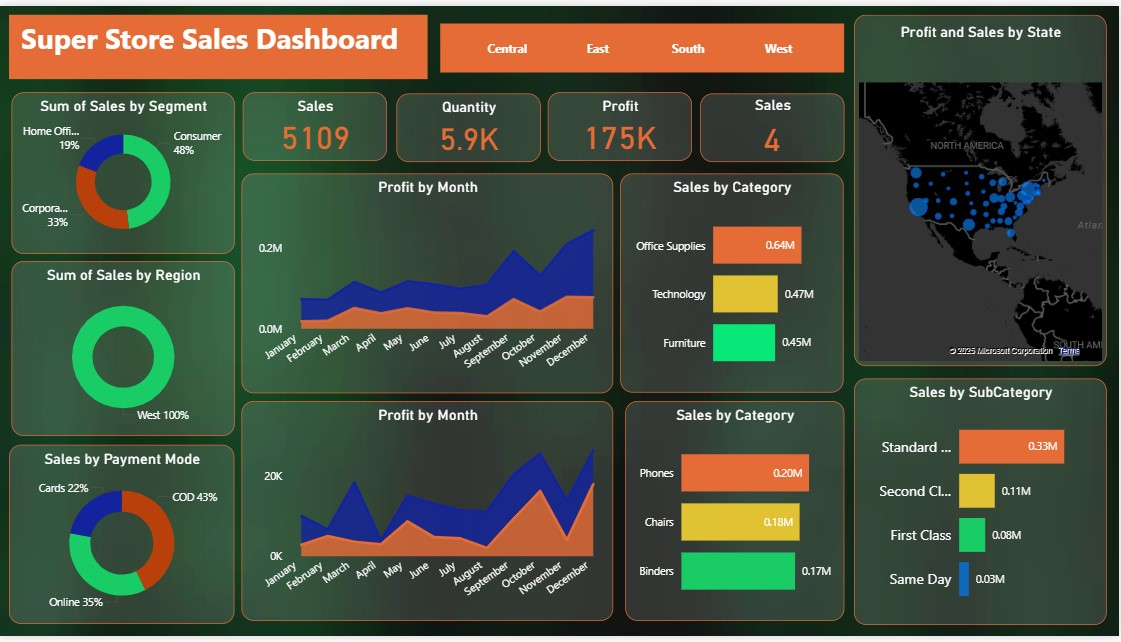

This screenshot's page, from the dashboard's own definition file:
{"tool":"powerbi","page":{"name":"Super Store Sales Dashboard","canvas":[1280,720],"ordinal":0},"visuals":[{"type":"clusteredBarChart","title":"Sales by Category","fields":{"Category":["SuperStore_Sales_Dataset (1).Category"],"Y":["Sum(SuperStore_Sales_Dataset (1).Sales)"]},"box":[710,191.2,255,250],"z":0},{"type":"clusteredBarChart","title":"Sales by SubCategory","fields":{"Category":["SuperStore_Sales_Dataset (1).Ship Mode"],"Y":["Sum(SuperStore_Sales_Dataset (1).Sales)"]},"box":[977.5,425,288.8,281.2],"z":2000},{"type":"stackedAreaChart","title":"Profit by Month","fields":{"Series":["SuperStore_Sales_Dataset (1).Order Date.Variation.Date Hierarchy.Year"],"Category":["SuperStore_Sales_Dataset (1).Order Date.Variation.Date Hierarchy.Month"],"Y":["Sum(SuperStore_Sales_Dataset (1).Profit)"]},"box":[277.5,451.2,425,251.2],"z":3000},{"type":"map","title":"Profit and Sales by State","fields":{"Category":["SuperStore_Sales_Dataset (1).State"],"Size":["Sum(SuperStore_Sales_Dataset (1).Sales)"]},"box":[977,10,288.8,401.2],"z":5000},{"type":"clusteredBarChart","title":"Sales by Category","fields":{"Y":["Sum(SuperStore_Sales_Dataset (1).Sales)"],"Category":["SuperStore_Sales_Dataset (1).Sub-Category"]},"box":[716.2,451.2,250,251.2],"z":5001},{"type":"donutChart","fields":{"Category":["SuperStore_Sales_Dataset (1).Segment"],"Y":["Sum(SuperStore_Sales_Dataset (1).Sales)"]},"box":[13.8,98.8,255,185],"z":5002},{"type":"donutChart","title":"Sales by Payment Mode","fields":{"Y":["Sum(SuperStore_Sales_Dataset (1).Sales)"],"Category":["SuperStore_Sales_Dataset (1).Payment Mode"]},"box":[11.2,501.2,257.5,205],"z":5003},{"type":"slicer","fields":{"Values":["SuperStore_Sales_Dataset (1).Region"]},"box":[503.8,20,461.2,56.2],"z":5004},{"type":"textbox","box":[11.2,10,478.8,73.8],"z":5005},{"type":"card","title":"Sales","fields":{"Values":["Count(SuperStore_Sales_Dataset (1).Sales)"]},"box":[278.8,98.8,165,78.8],"z":5006},{"type":"card","title":"Quantity","fields":{"Values":["CountNonNull(SuperStore_Sales_Dataset (1).Quantity)"]},"box":[453.8,100,165,78],"z":5007},{"type":"card","title":"Profit","fields":{"Values":["Sum(SuperStore_Sales_Dataset (1).Profit)"]},"box":[627.5,98.8,165,78],"z":5008},{"type":"card","title":"Sales","fields":{"Values":["Avg(SuperStore_Sales_Dataset (1).AvgDelivery)"]},"box":[801.2,100,165,78],"z":5009},{"type":"donutChart","fields":{"Y":["Sum(SuperStore_Sales_Dataset (1).Sales)"],"Category":["SuperStore_Sales_Dataset (1).Region"]},"box":[13.8,291.2,255,200],"z":5010},{"type":"stackedAreaChart","title":"Profit by Month","fields":{"Series":["SuperStore_Sales_Dataset (1).Order Date.Variation.Date Hierarchy.Year"],"Category":["SuperStore_Sales_Dataset (1).Order Date.Variation.Date Hierarchy.Month"],"Y":["Sum(SuperStore_Sales_Dataset (1).Sales)"]},"box":[277.5,191.2,425,251.2],"z":5011}]}

Visuals, with their boxes in screenshot pixels (x1, y1, x2, y2), scaled from the page's 1280x720 canvas onto the 1121x642 screenshot:
"Sales by Category" clusteredBarChart: 622:170:845:393
"Sales by SubCategory" clusteredBarChart: 856:379:1109:630
"Profit by Month" stackedAreaChart: 243:402:615:626
"Profit and Sales by State" map: 856:9:1109:367
"Sales by Category" clusteredBarChart: 627:402:846:626
donutChart - SuperStore_Sales_Dataset (1).Segment x Sum(SuperStore_Sales_Dataset (1).Sales): 12:88:235:253
"Sales by Payment Mode" donutChart: 10:447:235:630
slicer - SuperStore_Sales_Dataset (1).Region: 441:18:845:68
textbox: 10:9:429:75
"Sales" card: 244:88:389:158
"Quantity" card: 397:89:542:159
"Profit" card: 550:88:694:158
"Sales" card: 702:89:846:159
donutChart - Sum(SuperStore_Sales_Dataset (1).Sales) x SuperStore_Sales_Dataset (1).Region: 12:260:235:438
"Profit by Month" stackedAreaChart: 243:170:615:394
